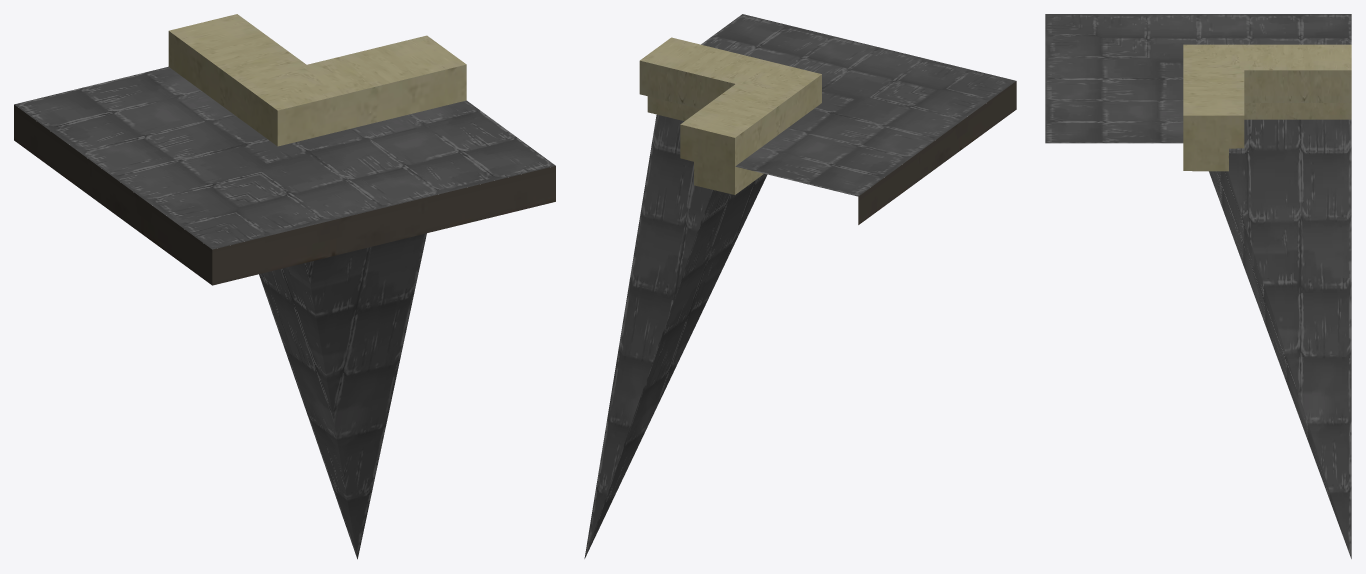
Rendered from Roof_SlateCornice_InnerCorner.glb.
3 views of the same model, side by side, from view 1: azimuth 30°, elevation 25°; view 2: azimuth 150°, elevation 25°; view 3: azimuth 270°, elevation 25° (orthographic). The views are drawn at different scales.
Parts seen in each view (by area): view 1: Roof_SlateCornice_InnerCorner; view 2: Roof_SlateCornice_InnerCorner; view 3: Roof_SlateCornice_InnerCorner.
Boxes of the visible parts, x1=… form: Roof_SlateCornice_InnerCorner: x1=14, y1=14, x2=555, y2=559; Roof_SlateCornice_InnerCorner: x1=584, y1=14, x2=1016, y2=558; Roof_SlateCornice_InnerCorner: x1=1045, y1=14, x2=1351, y2=558.
Size of the model in its own units: 2 by 3.2 by 2.
3 materials, 3 textured.
